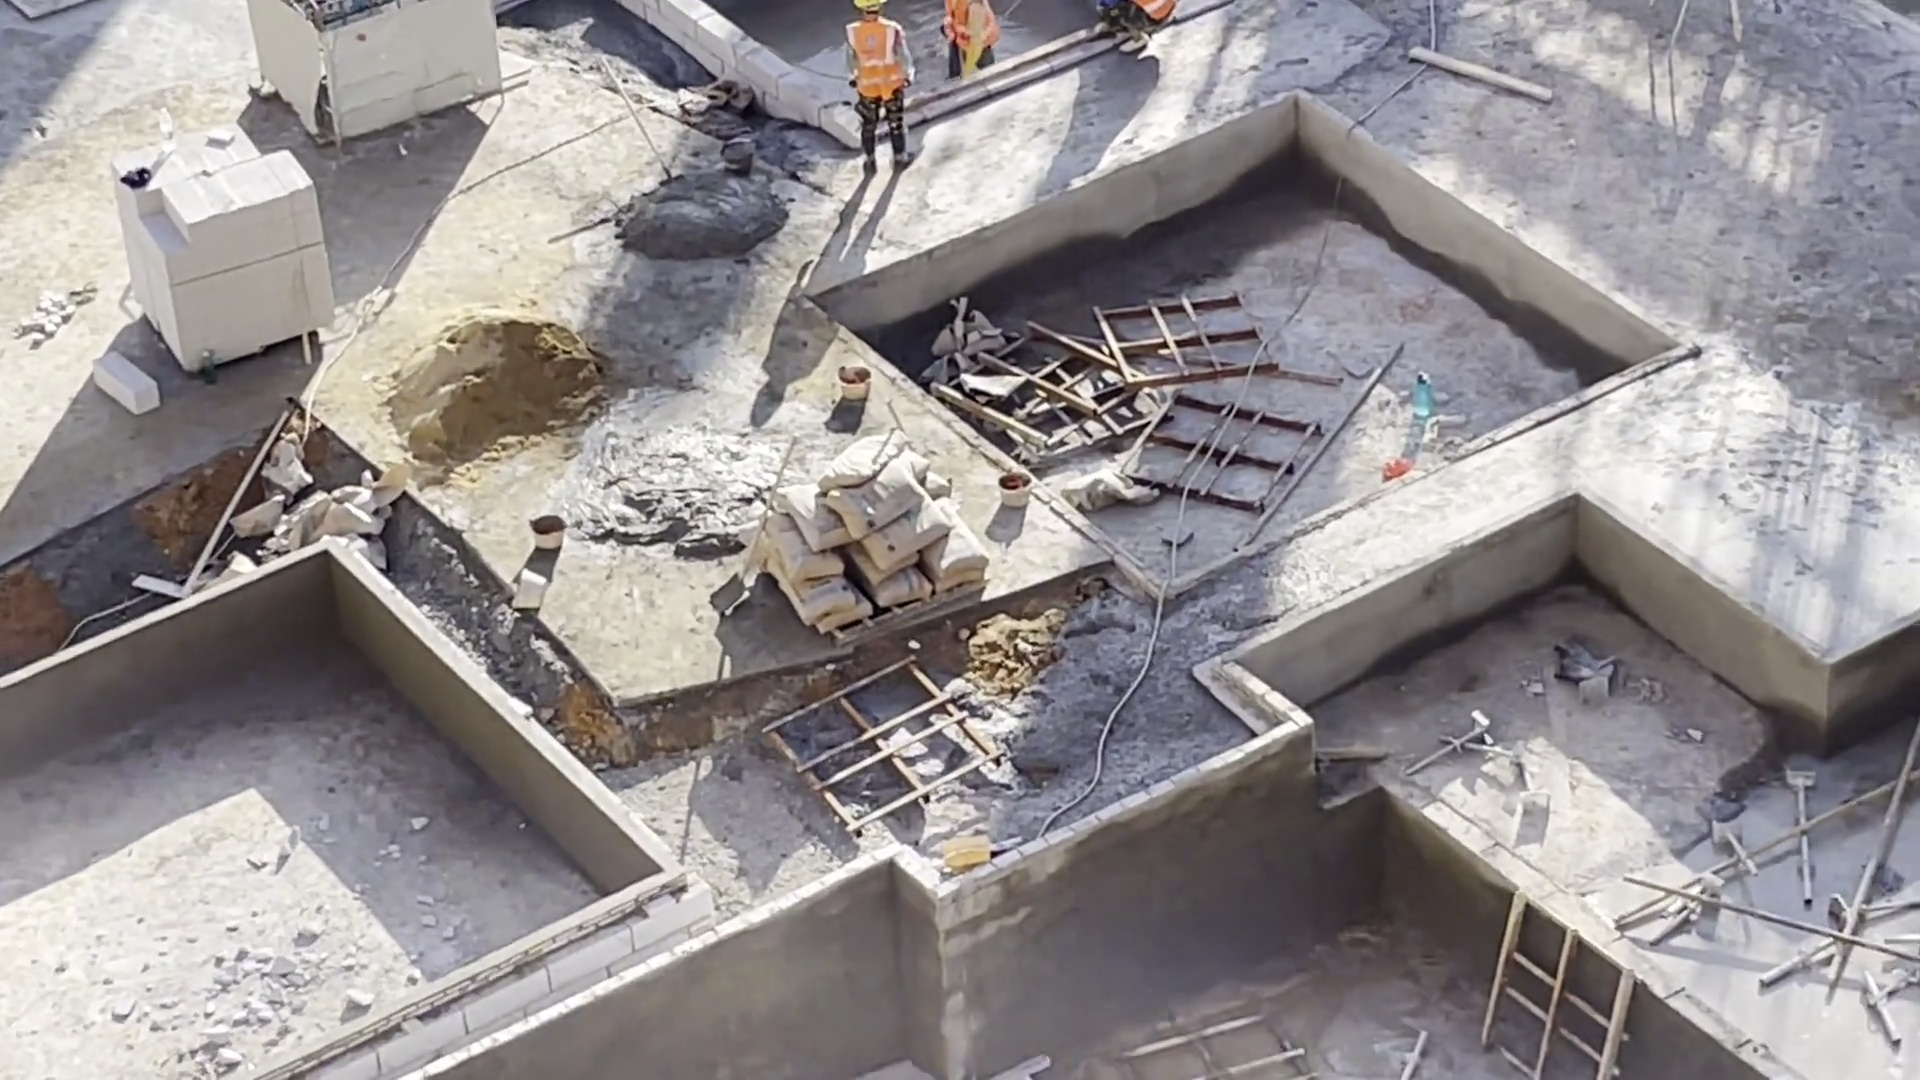person: (840, 1, 929, 164), (936, 1, 1012, 101)
vest: (842, 5, 907, 100), (936, 1, 998, 53)
